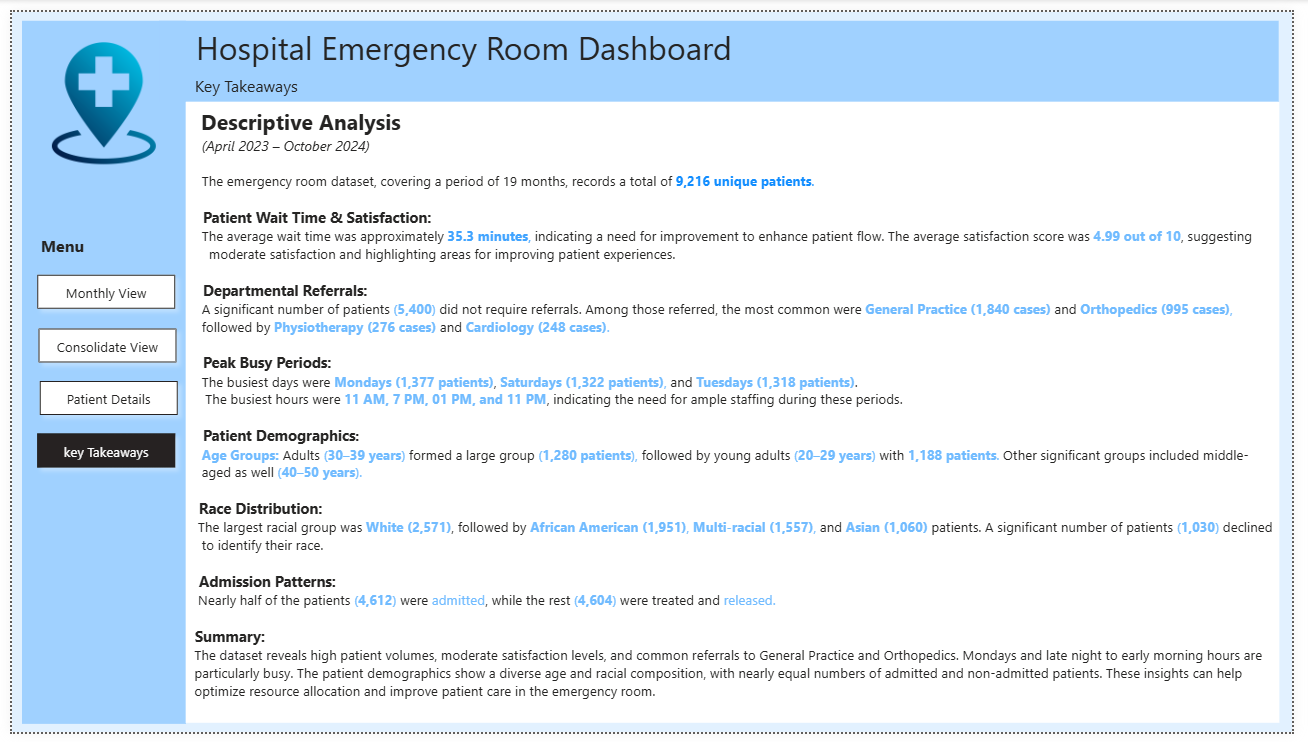

This screenshot's page, from the dashboard's own definition file:
{"tool":"powerbi","page":{"name":"key Takeaways","canvas":[1280,720],"ordinal":3},"visuals":[{"type":"shape","box":[9.8,8.6,163.9,703.1],"z":0},{"type":"shape","box":[147.2,8.7,1119.6,80.8],"z":1000},{"type":"textbox","box":[174.9,8.6,553.9,69.7],"z":2000},{"type":"textbox","box":[173.6,57.5,121.1,31.8],"z":3000},{"type":"image","box":[26,30.3,131.3,122.6],"z":4000},{"type":"textbox","box":[173.6,90.5,1093.2,621.2],"z":5000},{"type":"pageNavigator","box":[15.9,254.3,156.5,52.6],"z":6000},{"type":"pageNavigator","box":[17.1,306.9,156.5,52.6],"z":7000},{"type":"pageNavigator","box":[18.3,359.5,156.5,52.6],"z":8000},{"type":"pageNavigator","box":[15.9,412.1,156.5,52.6],"z":9000},{"type":"textbox","box":[23.2,217.7,68.5,39.1],"z":10000}]}

Visuals, with their boxes in screenshot pixels (x1, y1, x2, y2), scaled from the page's 1280x720 canvas onto the 1308x742 screenshot:
shape: {"left": 10, "top": 9, "right": 177, "bottom": 733}
shape: {"left": 150, "top": 9, "right": 1295, "bottom": 92}
textbox: {"left": 179, "top": 9, "right": 745, "bottom": 81}
textbox: {"left": 177, "top": 59, "right": 301, "bottom": 92}
image: {"left": 27, "top": 31, "right": 161, "bottom": 158}
textbox: {"left": 177, "top": 93, "right": 1295, "bottom": 733}
pageNavigator: {"left": 16, "top": 262, "right": 176, "bottom": 316}
pageNavigator: {"left": 17, "top": 316, "right": 177, "bottom": 370}
pageNavigator: {"left": 19, "top": 370, "right": 179, "bottom": 425}
pageNavigator: {"left": 16, "top": 425, "right": 176, "bottom": 479}
textbox: {"left": 24, "top": 224, "right": 94, "bottom": 265}
